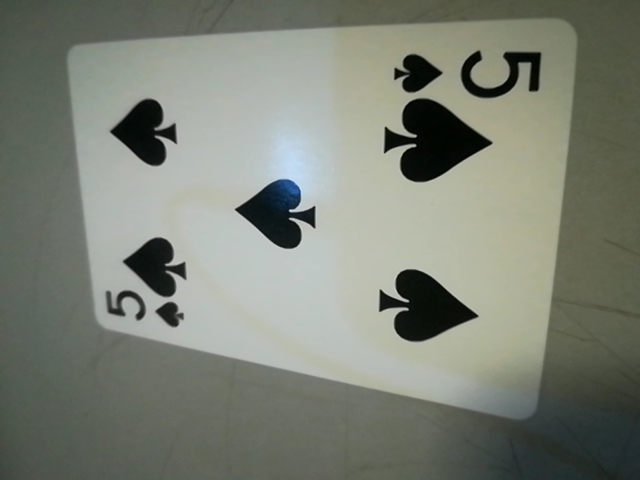ht 5: (389, 41, 556, 111)
